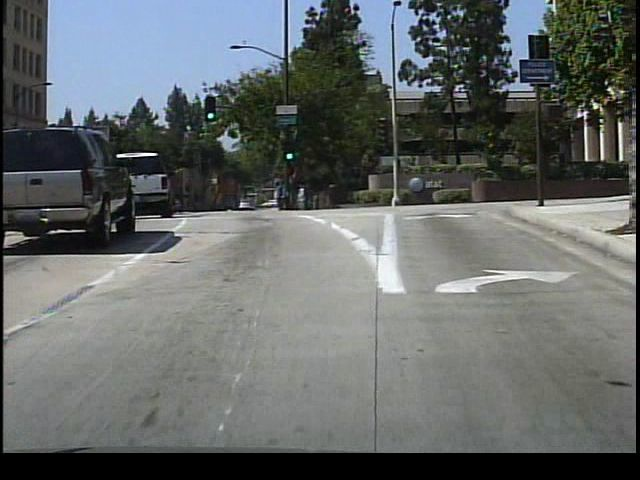person: (270, 173, 290, 212), (293, 178, 311, 212)
